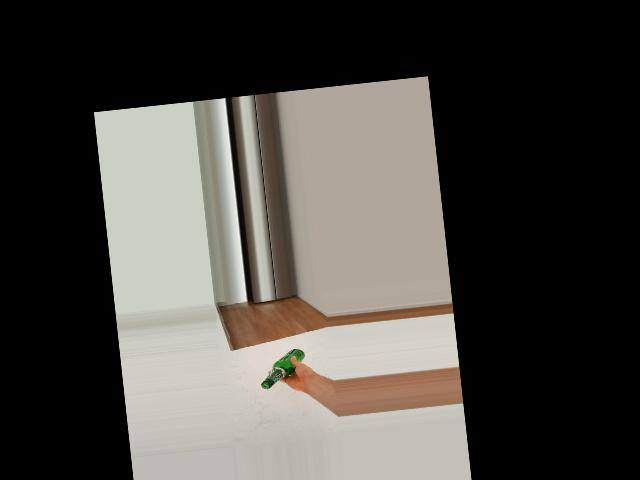beer: (257, 348, 308, 390)
